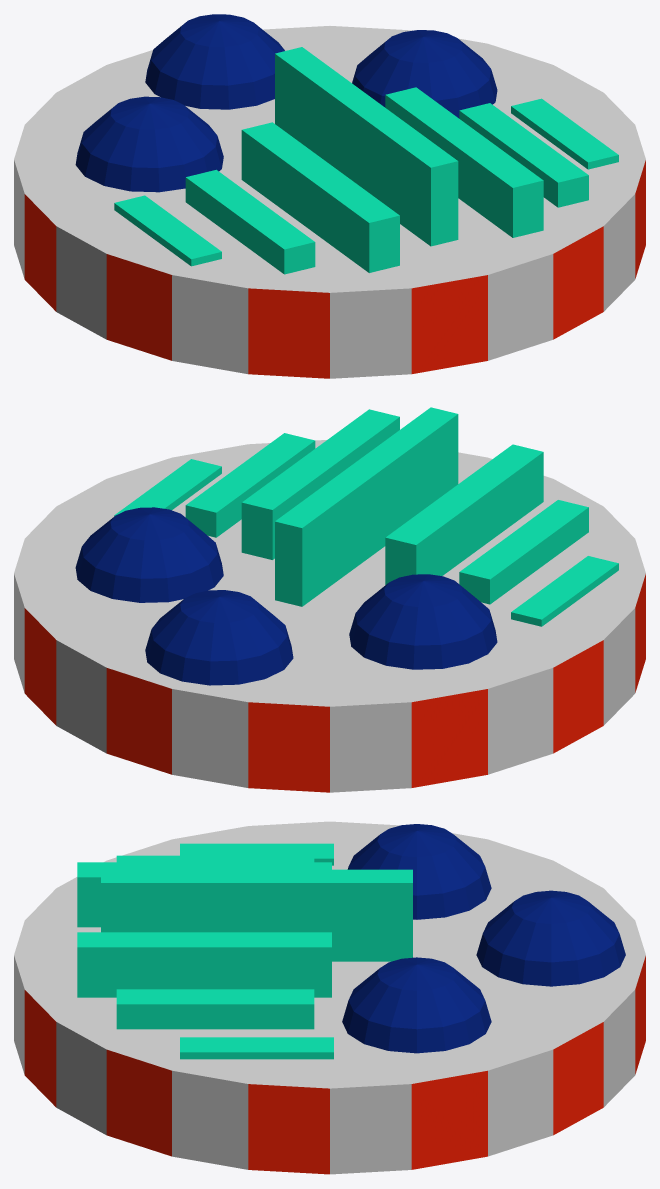
File: unit2.fbx
3 views of the same model, one above another, from view 1: azimuth 30°, elevation 25°; view 2: azimuth 150°, elevation 25°; view 3: azimuth 270°, elevation 25° (orthographic).
Visible parts, largest first — view 1: Empty_Mesh; view 2: Empty_Mesh; view 3: Empty_Mesh.
Boxes of the visible parts, left/top/right/bottom form: Empty_Mesh: left=14, top=14, right=645, bottom=378; Empty_Mesh: left=14, top=407, right=645, bottom=792; Empty_Mesh: left=14, top=821, right=645, bottom=1174.
Size of the model in its own units: 80 by 23 by 80.
